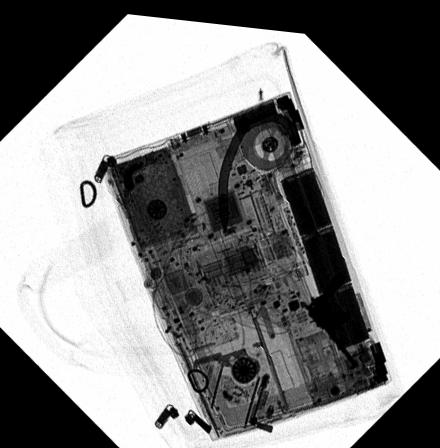Gun: (304, 263, 359, 360)
